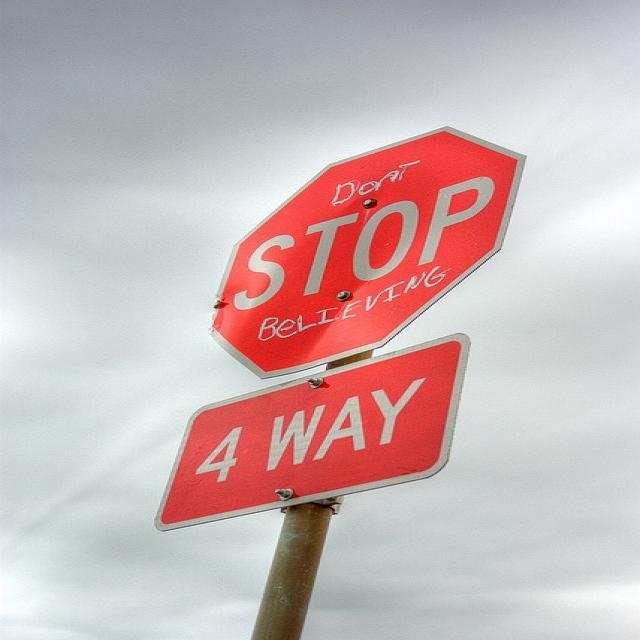pole: (236, 512, 356, 639)
